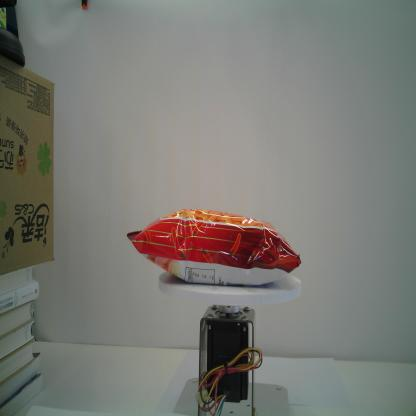Puffed Food: (126, 207, 301, 286)
